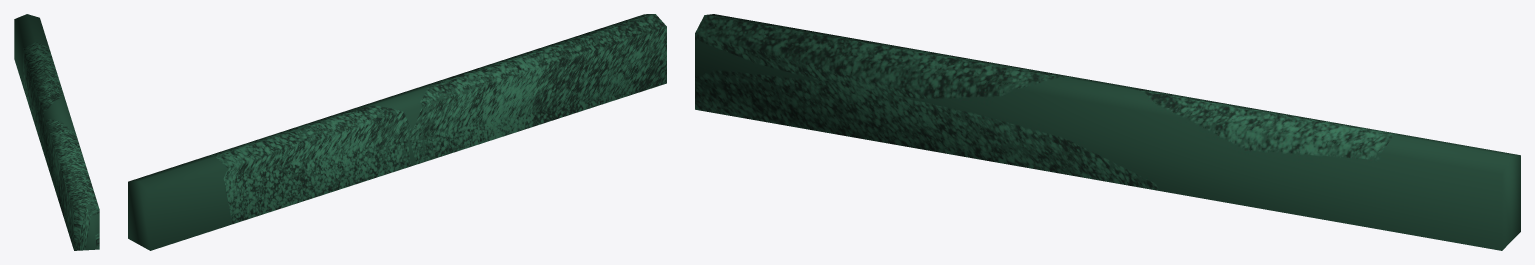
File: Ring6W4.fbx
3 views of the same model, side by side, from view 1: azimuth 30°, elevation 25°; view 2: azimuth 150°, elevation 25°; view 3: azimuth 270°, elevation 25° (orthographic). The views are drawn at different scales.
Visible parts, largest first — view 1: Ring6W4; view 2: Ring6W4; view 3: Ring6W4.
Part boxes in pixels (bbox=[...]): Ring6W4: bbox=[14, 14, 99, 250]; Ring6W4: bbox=[128, 14, 666, 250]; Ring6W4: bbox=[695, 14, 1520, 250].
Bounding box in the file's own units: 1619 × 400 × 3520.
